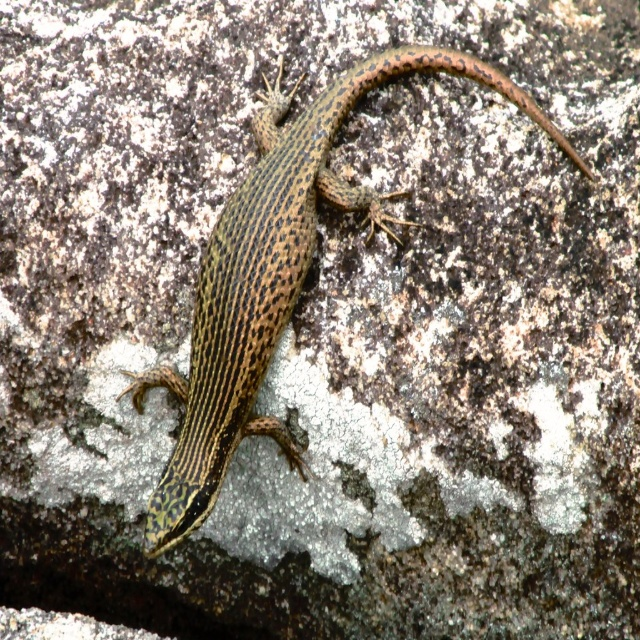Lizard: (98, 40, 591, 571)
